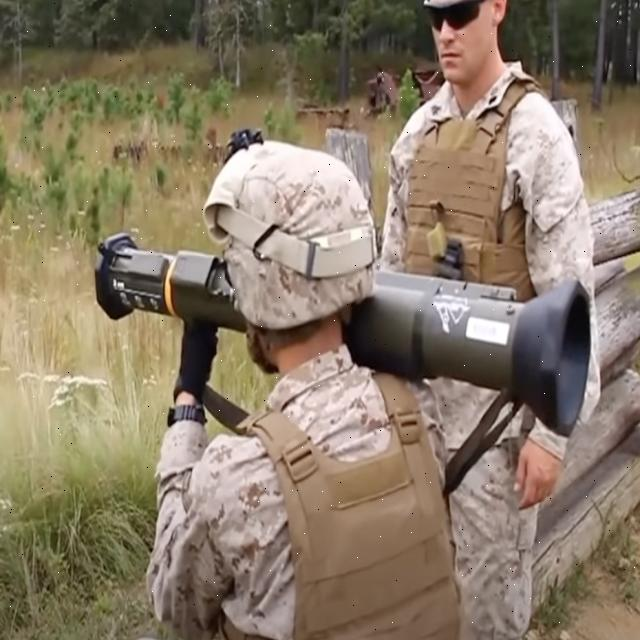bazooka: (100, 231, 596, 438)
